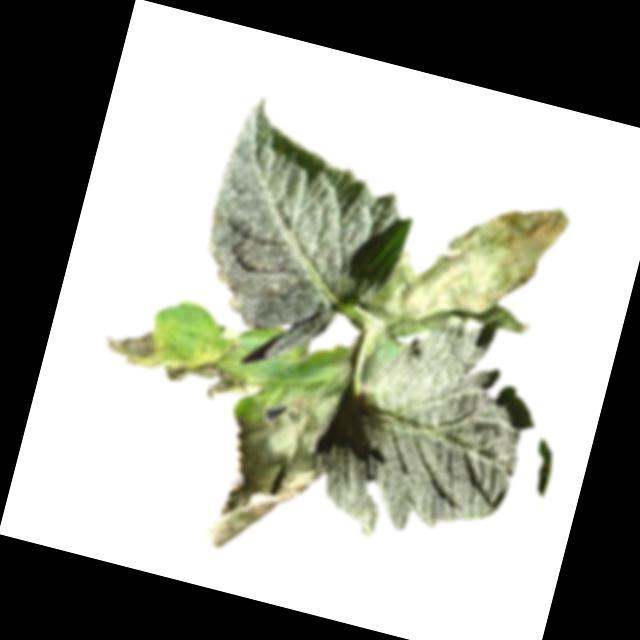Late_blight: (356, 165, 573, 370), (198, 375, 336, 569), (156, 345, 254, 407), (96, 319, 169, 374), (205, 323, 244, 363), (320, 352, 353, 384)
